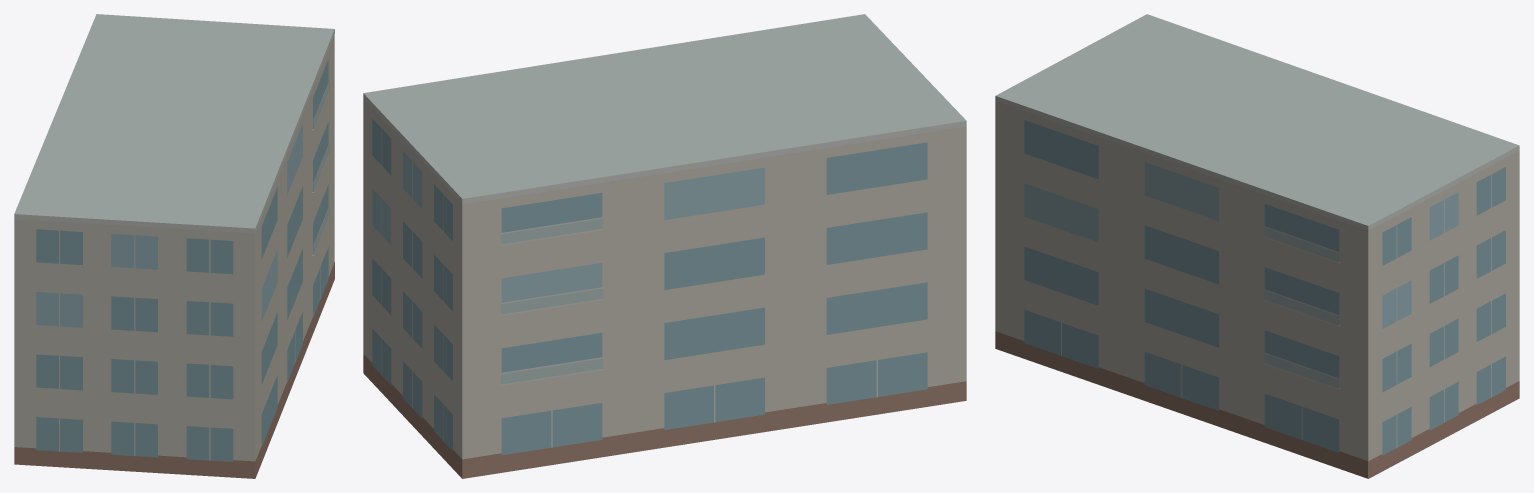
Rendered from survey-upis-32684132.glb.
The picture shows the model from 3 angles, left to right: view 1: azimuth 30°, elevation 25°; view 2: azimuth 150°, elevation 25°; view 3: azimuth 270°, elevation 25°; orthographic projection. The views are drawn at different scales.
Parts seen in each view (by area): view 1: survey-upis-32684132.tmp; view 2: survey-upis-32684132.tmp; view 3: survey-upis-32684132.tmp.
Part boxes in pixels (x1,y1,x2,y2): survey-upis-32684132.tmp: (14,14,334,478); survey-upis-32684132.tmp: (363,14,966,478); survey-upis-32684132.tmp: (995,14,1519,478).
Bounding box in the file's own units: 22.3 × 12.4 × 23.3.
